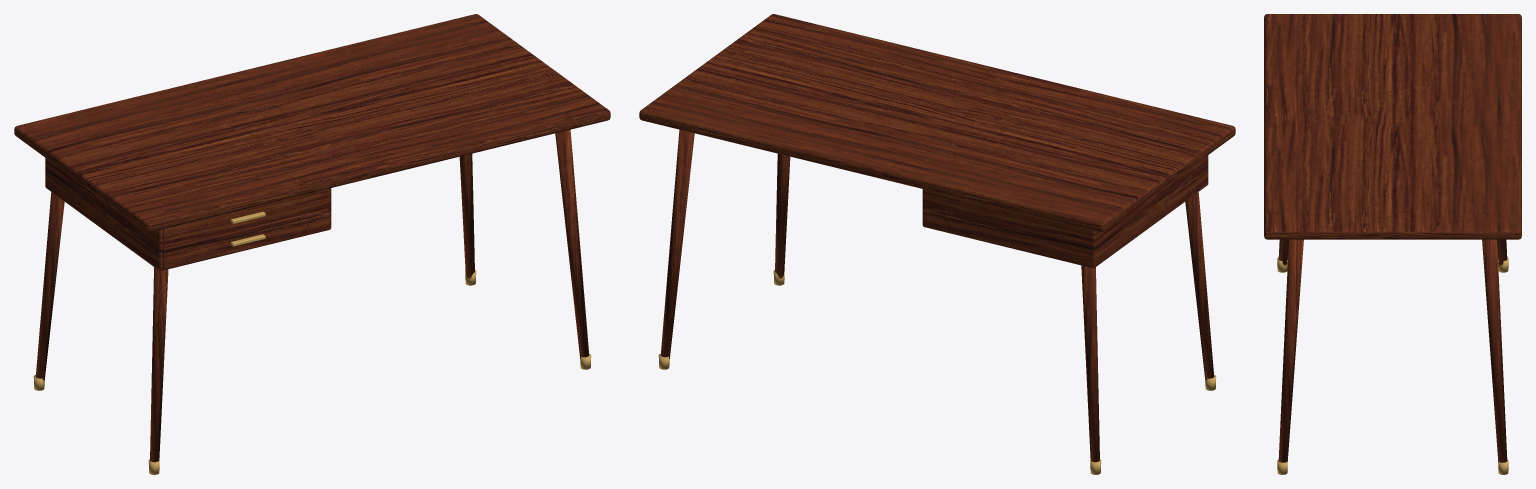
3 views of the same model, side by side, from view 1: azimuth 30°, elevation 25°; view 2: azimuth 150°, elevation 25°; view 3: azimuth 270°, elevation 25° (orthographic). The views are drawn at different scales.
Parts seen in each view (by area): view 1: Walnut top, Drawer case, Drawer front 1, Drawer front 2, Tapered leg RF, Tapered leg LF, Tapered leg LB, Tapered leg RB; view 2: Walnut top, Drawer case, Tapered leg RB, Tapered leg LB, Tapered leg LF, Tapered leg RF; view 3: Walnut top, Tapered leg RB, Tapered leg RF.
Part boxes in pixels (box(x1,y1,x2,y2)): Walnut top: box(14, 14, 610, 232); Drawer case: box(45, 158, 331, 270); Drawer front 1: box(163, 208, 329, 269); Drawer front 2: box(163, 188, 329, 247); Tapered leg RF: box(555, 129, 589, 359); Tapered leg LF: box(150, 267, 168, 462); Tapered leg LB: box(35, 192, 64, 382); Tapered leg RB: box(459, 153, 474, 285); Walnut top: box(639, 14, 1235, 232); Drawer case: box(922, 155, 1208, 268); Tapered leg RB: box(660, 129, 694, 359); Tapered leg LB: box(1081, 265, 1099, 462); Tapered leg LF: box(1185, 192, 1214, 382); Tapered leg RF: box(775, 153, 790, 285); Walnut top: box(1264, 14, 1521, 239); Tapered leg RB: box(1482, 239, 1507, 462); Tapered leg RF: box(1278, 239, 1303, 462).
Size of the model in its own units: 1.4 by 0.75 by 0.7.
Materials: 2 (1 with a texture image).
